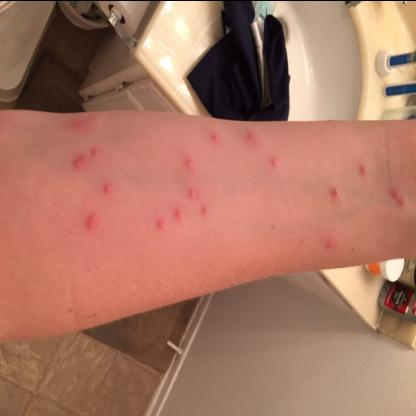Bed Bug: (69, 145, 103, 169), (147, 204, 169, 238), (388, 176, 410, 209), (69, 113, 98, 136), (80, 209, 102, 234), (264, 150, 283, 174), (204, 123, 223, 147), (330, 178, 346, 206), (322, 229, 340, 253), (178, 148, 196, 172), (242, 121, 258, 147), (186, 178, 198, 208), (172, 198, 184, 224), (101, 178, 116, 198), (358, 160, 372, 178), (199, 204, 213, 218)
